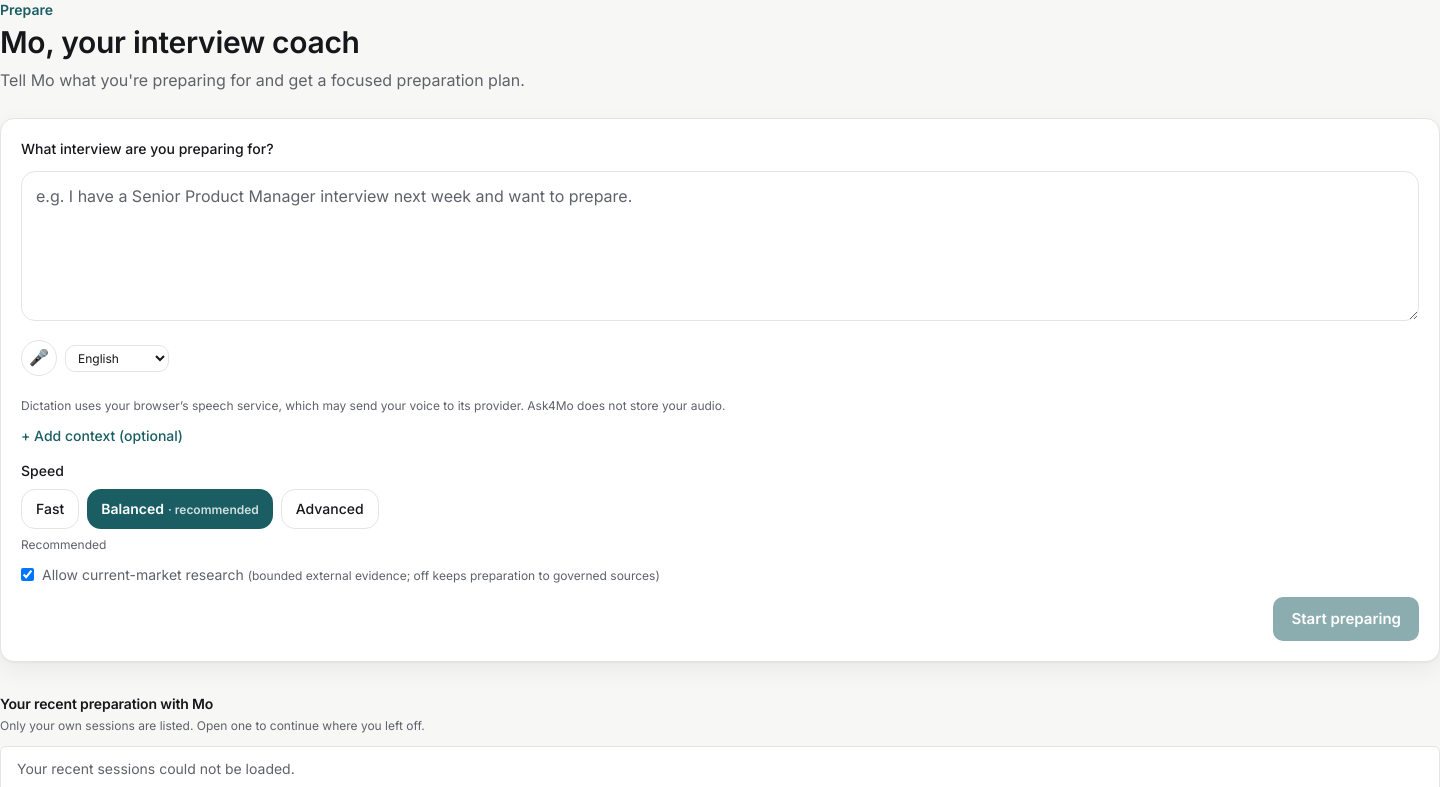
Scenario: Memory approval card (edit-before-save) › shows the exact memory that would be saved
Type "Prep" into the text box labelled "What interview are you preparing for?" at x=720, y=246, box x1=21 y1=171 x2=1419 y2=321
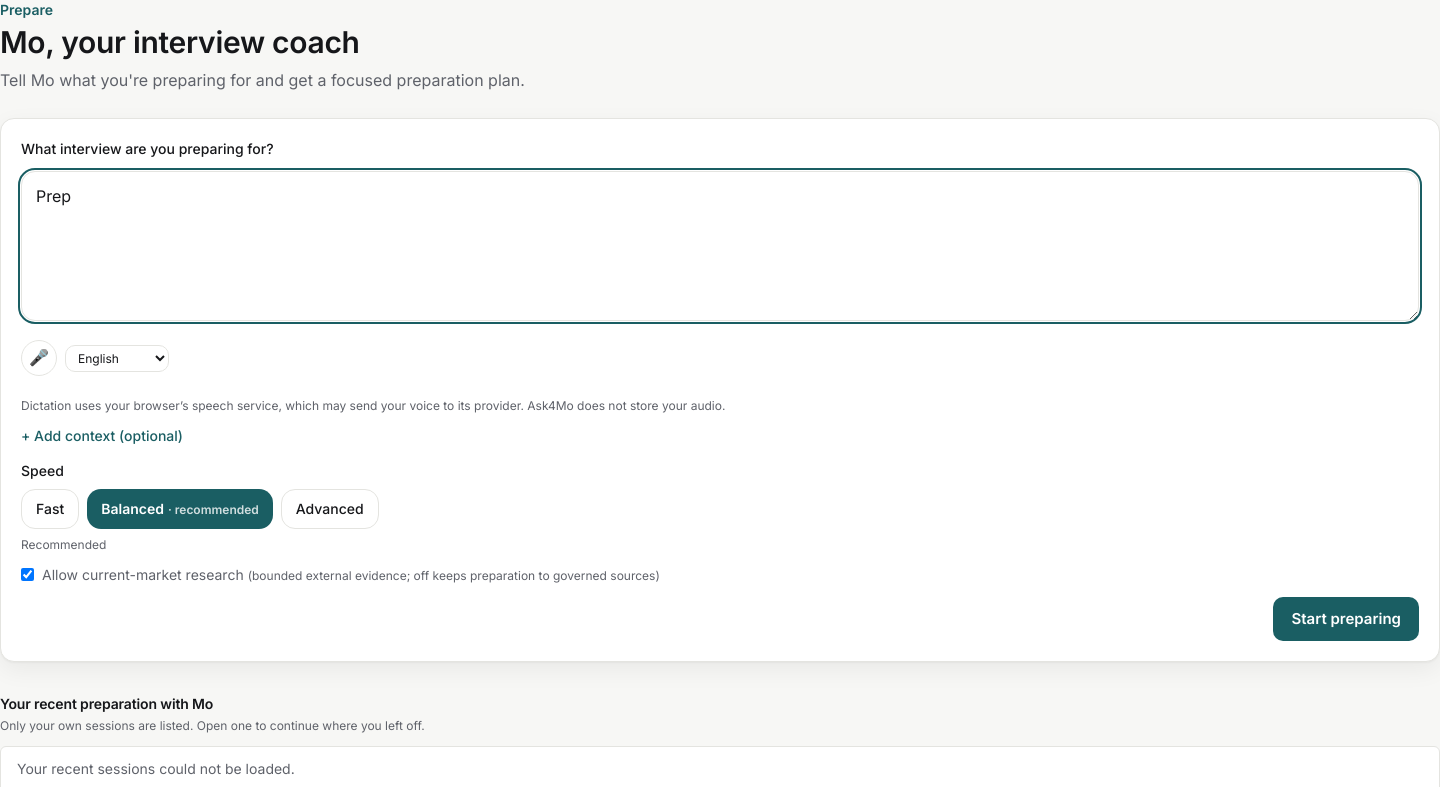
Click the button "Start preparing" at x=1346, y=619, box x1=1273 y1=597 x2=1419 y2=641
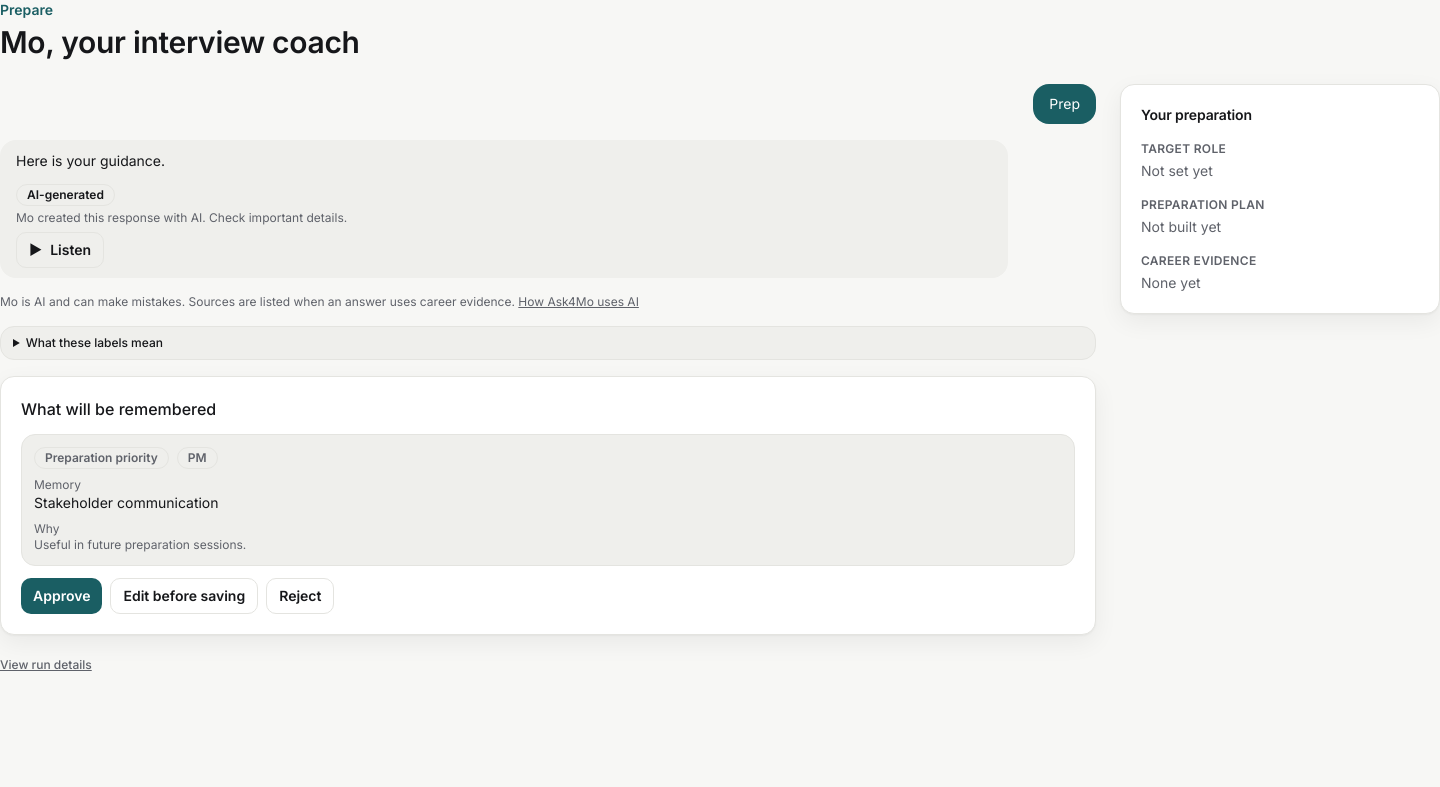
Now the text "What will be remembered" is shown, box x1=21 y1=399 x2=216 y2=419
Now the text "Stakeholder communication" is shown, box x1=34 y1=494 x2=218 y2=511
Now the text "PM" is shown, box x1=177 y1=447 x2=218 y2=469
